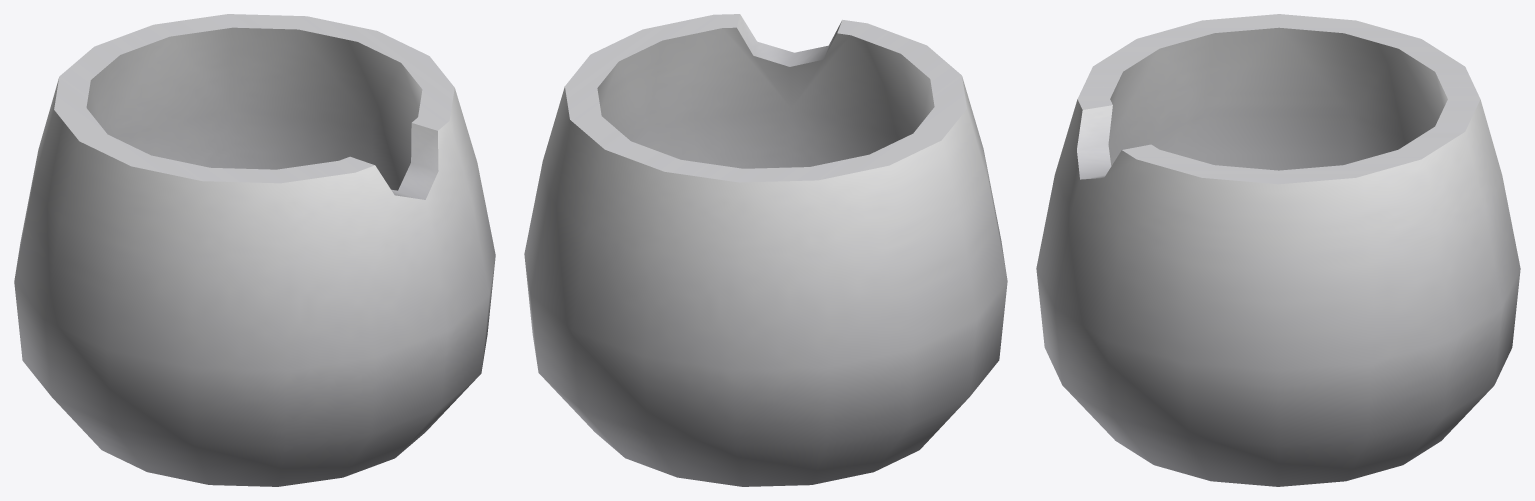
File: m_SugarContainer01.fbx
3 renders of one model, left to right at view 1: azimuth 30°, elevation 25°; view 2: azimuth 150°, elevation 25°; view 3: azimuth 270°, elevation 25°, orthographic.
Visible parts, largest first — view 1: m_SugarContainer01; view 2: m_SugarContainer01; view 3: m_SugarContainer01.
Boxes of the visible parts, box(x1,y1,x2,y2) form: m_SugarContainer01: box(14, 14, 495, 486); m_SugarContainer01: box(524, 14, 1007, 486); m_SugarContainer01: box(1036, 14, 1520, 486).
Bounding box in the file's own units: 11.21 × 8 × 11.21.
